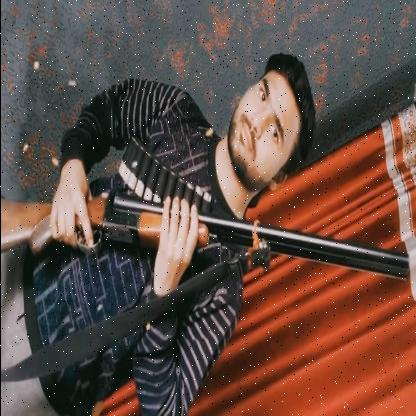rifle: (0, 186, 412, 288)
